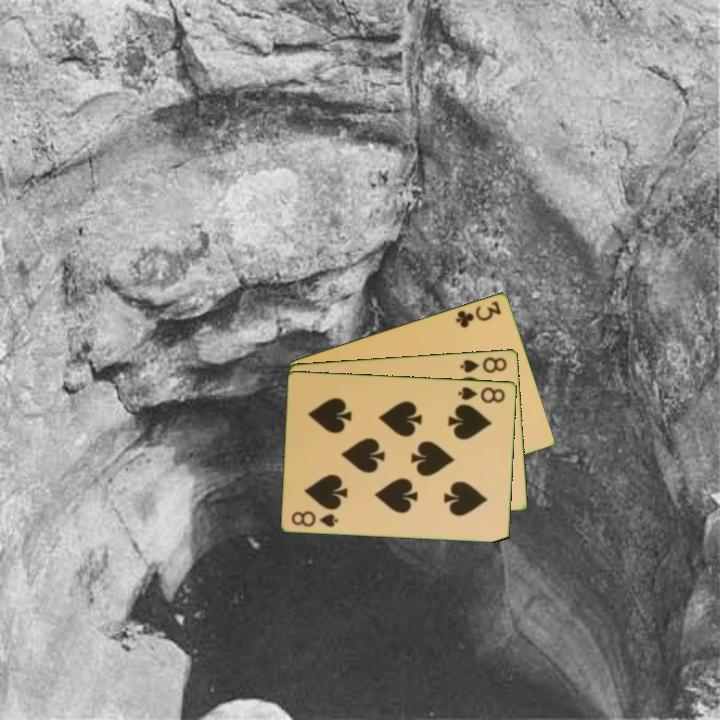3c: (452, 297, 504, 331)
8s: (457, 353, 510, 376), (455, 383, 508, 406), (288, 507, 341, 530)
